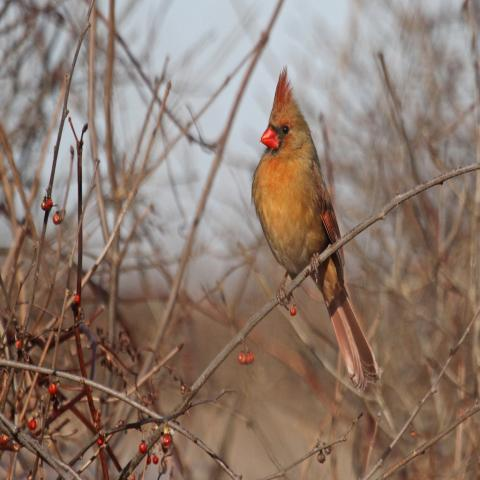bird: (249, 63, 381, 393)
